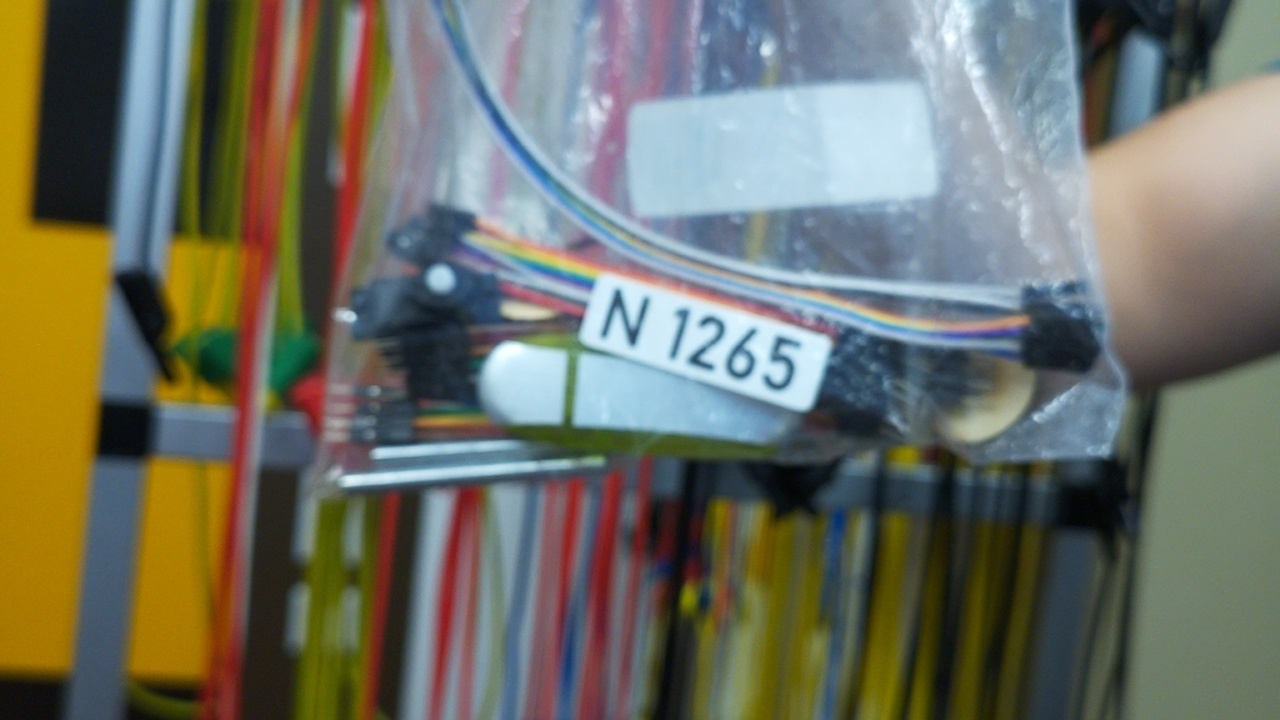license_plate: (576, 267, 838, 417)
